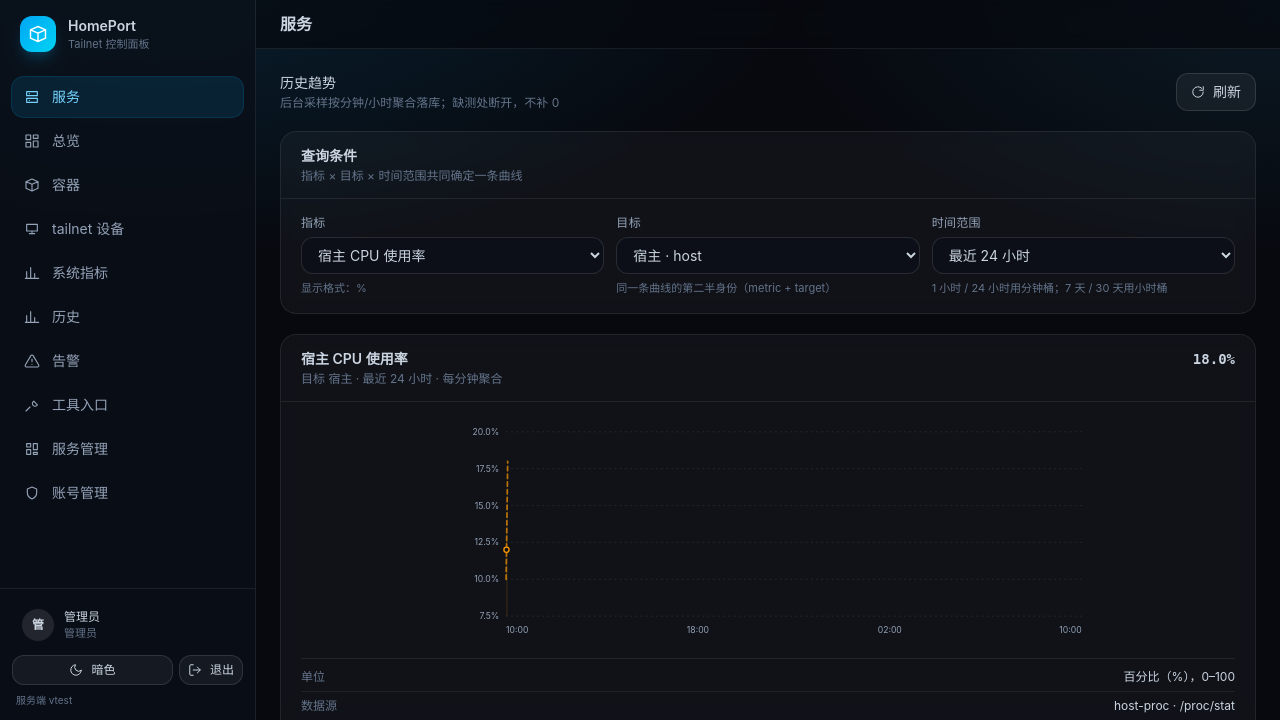
Test: HistoryPage · 指标 × 目标 × 范围（集成） › 默认指标自动选中第一个目标并取数；切换指标时目标重新推导、曲线整体重取
Expected: the picture is shown, top-left (301, 418), bottom-right (1235, 642)
Expected: the dropdown labelled "目标" shows "宿主 · host", top-left (616, 237), bottom-right (920, 274)
Note: 切到磁盘指标：目标列表改从 /api/system/snapshot 推导，并按新 target 重取
Select "磁盘使用率" in the dropdown labelled "指标": (453, 256) top-left (301, 237), bottom-right (604, 274)
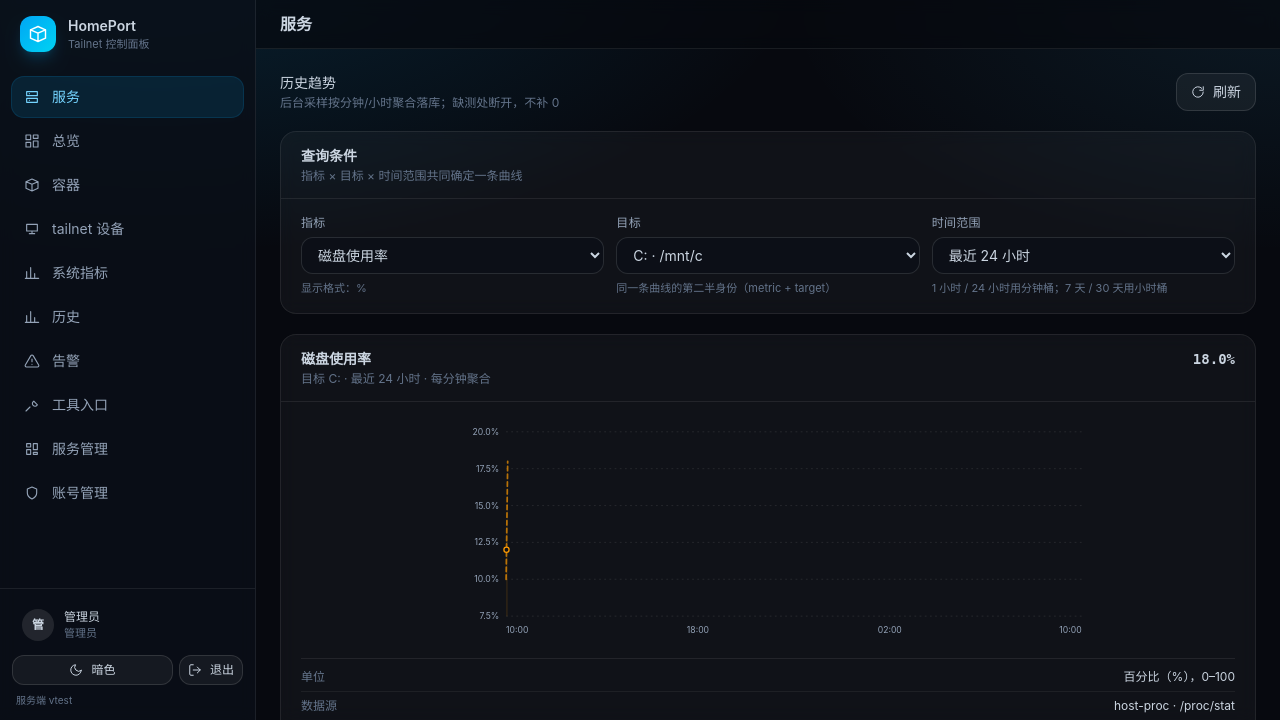
Expected: the dropdown labelled "目标" shows "C: · /mnt/c", top-left (616, 237), bottom-right (920, 274)
